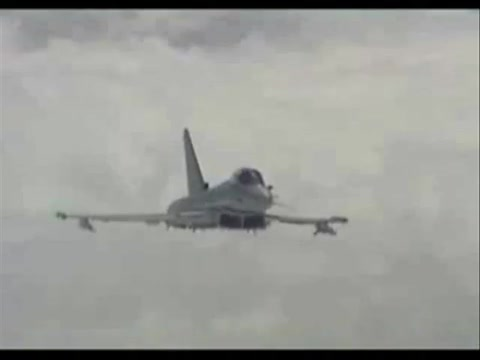aeroplane: (58, 127, 352, 240)
